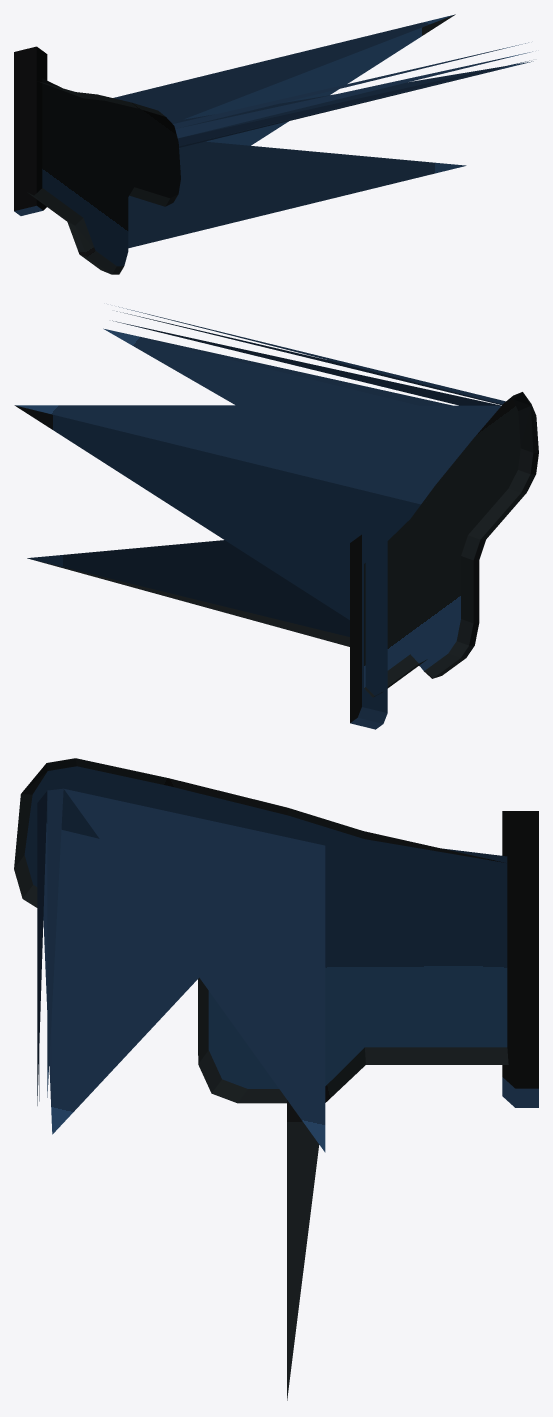
The picture shows the model from 3 angles, top to bottom: view 1: azimuth 30°, elevation 25°; view 2: azimuth 150°, elevation 25°; view 3: azimuth 270°, elevation 25°; orthographic projection. The views are drawn at different scales.
Bounding box in the file's own units: 1.44 × 0.7134 × 0.9834.
